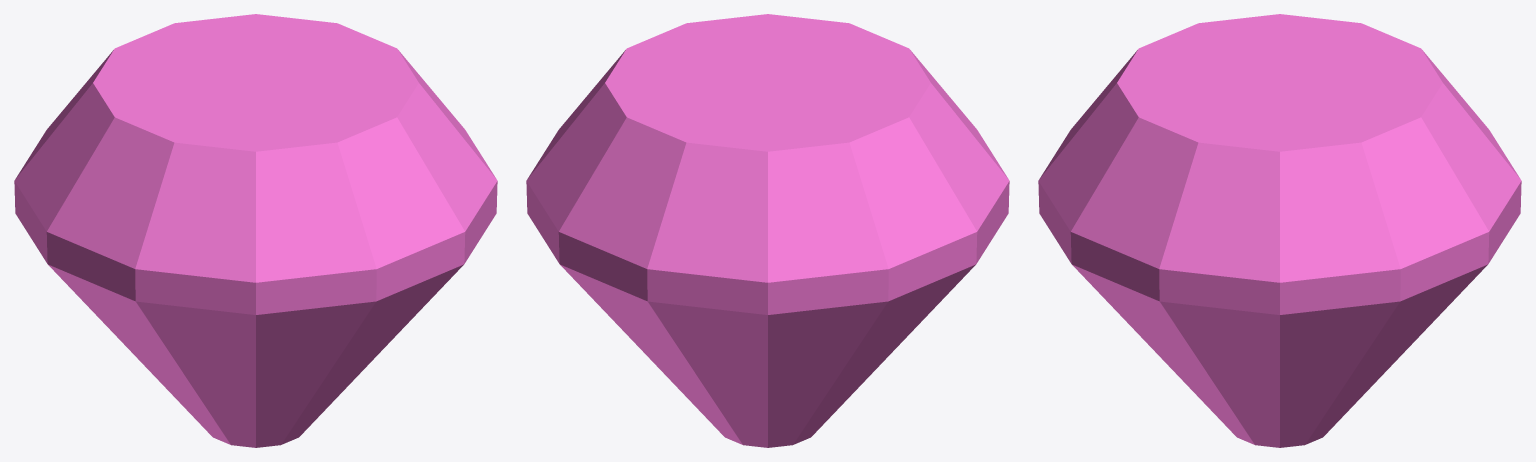
File: Crystal_Pink_D.fbx
3 views of the same model, side by side, from view 1: azimuth 30°, elevation 25°; view 2: azimuth 150°, elevation 25°; view 3: azimuth 270°, elevation 25° (orthographic).
Visible parts, largest first — view 1: Crystal_Pink_D; view 2: Crystal_Pink_D; view 3: Crystal_Pink_D.
Boxes of the visible parts, bbox=[...] form: Crystal_Pink_D: bbox=[14, 14, 497, 447]; Crystal_Pink_D: bbox=[526, 14, 1009, 447]; Crystal_Pink_D: bbox=[1038, 14, 1521, 447].
Bounding box in the file's own units: 91.8 × 72.12 × 91.8.
